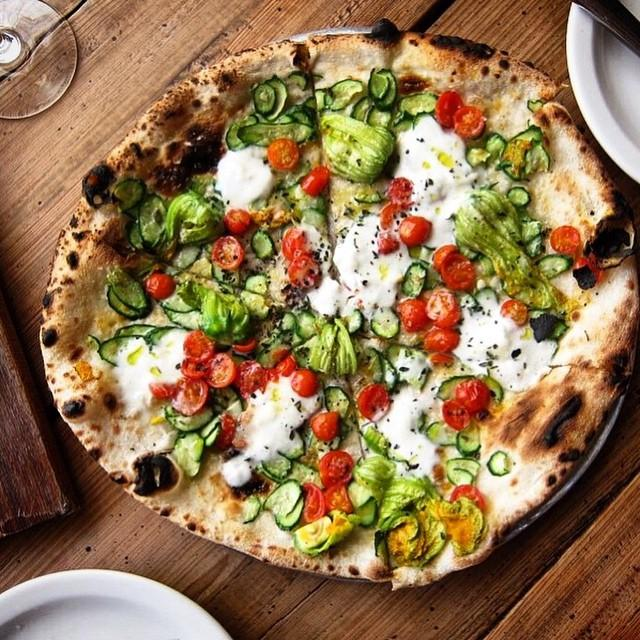pizza: (41, 29, 640, 588)
tomatoes: (442, 378, 492, 430), (430, 242, 475, 290), (286, 230, 319, 289), (234, 360, 276, 397), (171, 378, 209, 416), (426, 287, 462, 327), (319, 450, 355, 487), (356, 384, 390, 421), (211, 235, 245, 271), (396, 299, 430, 332), (206, 353, 238, 388), (435, 90, 464, 128), (268, 138, 300, 172), (398, 215, 432, 247), (454, 105, 486, 139), (575, 250, 605, 285), (184, 330, 216, 362), (302, 482, 326, 524), (550, 225, 581, 257), (310, 411, 340, 442), (442, 400, 472, 430), (451, 485, 485, 511), (301, 166, 330, 196), (145, 272, 176, 300), (424, 327, 458, 352), (326, 484, 352, 514), (502, 298, 528, 326), (292, 369, 318, 397), (388, 178, 412, 208), (224, 209, 251, 234), (380, 202, 401, 230), (148, 382, 178, 400), (182, 358, 208, 378), (378, 232, 400, 255), (275, 354, 297, 376)
